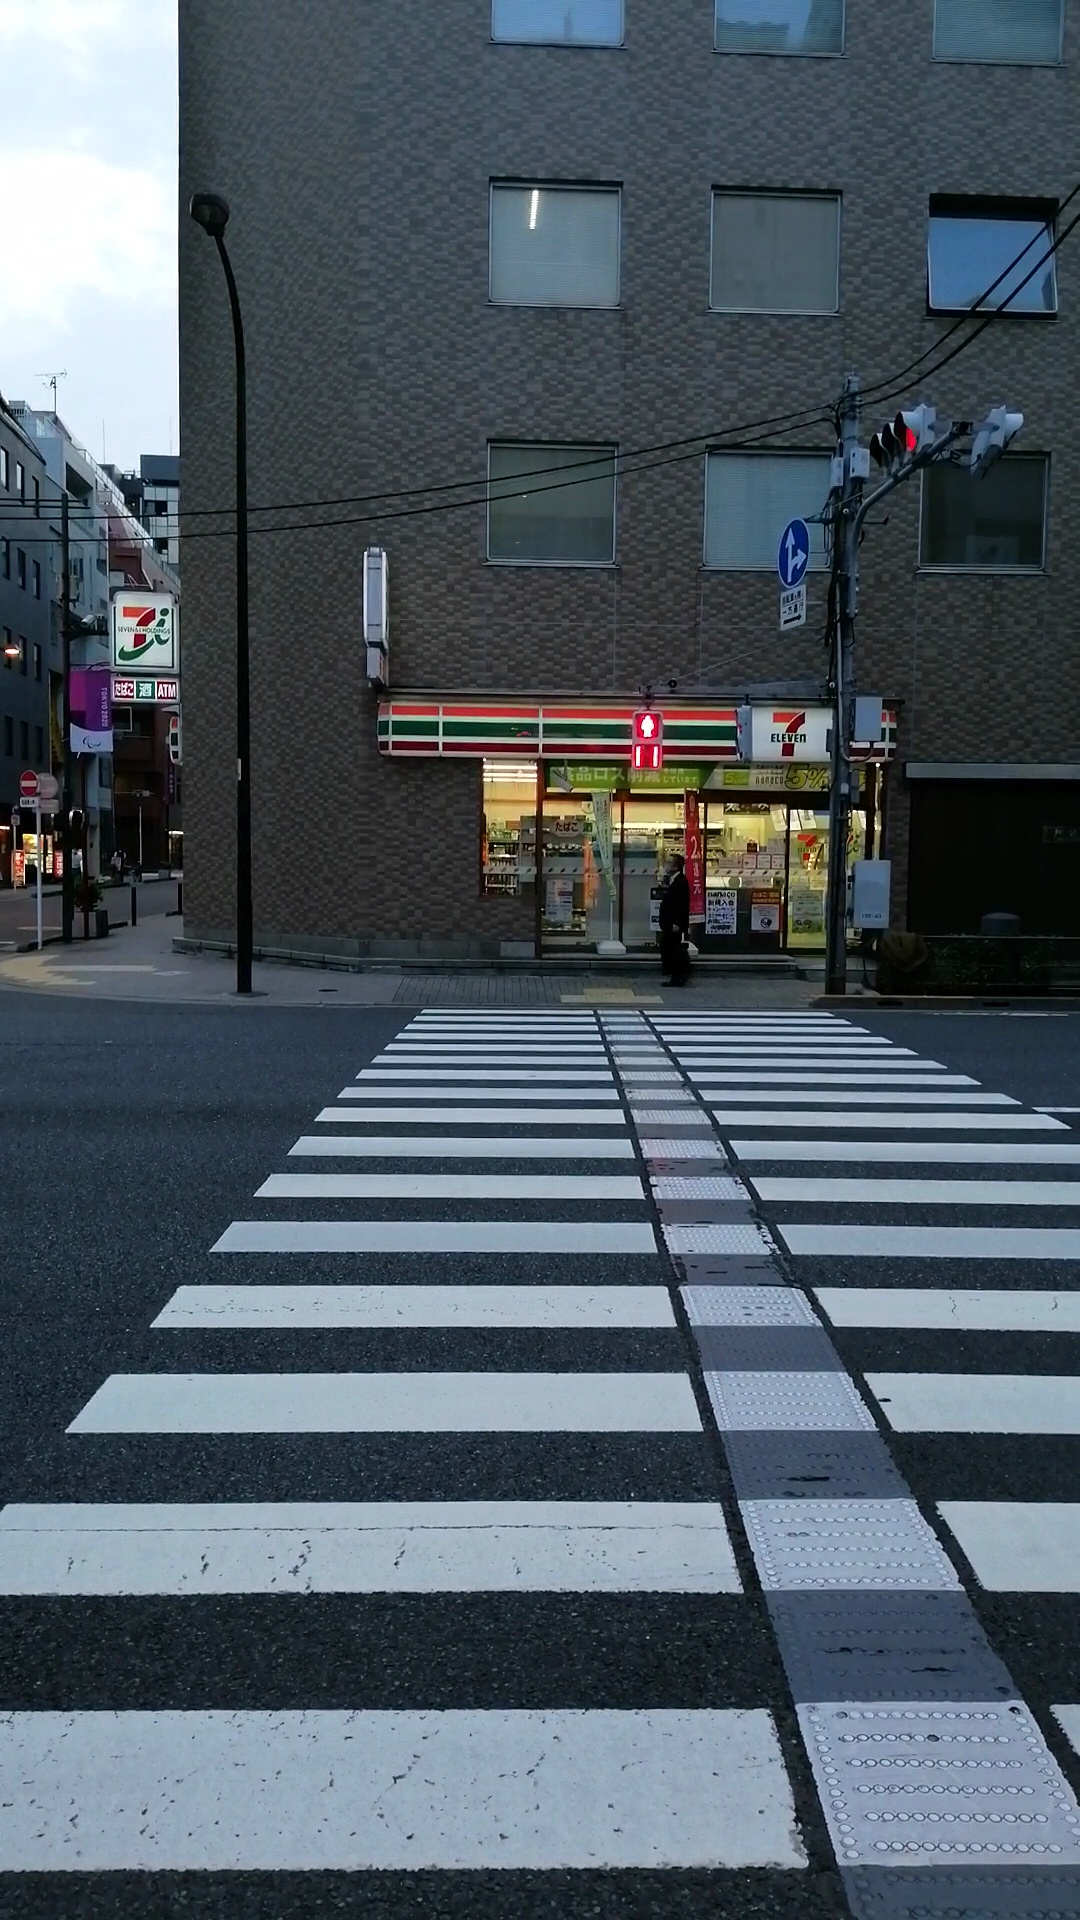red: (632, 709, 665, 774)
